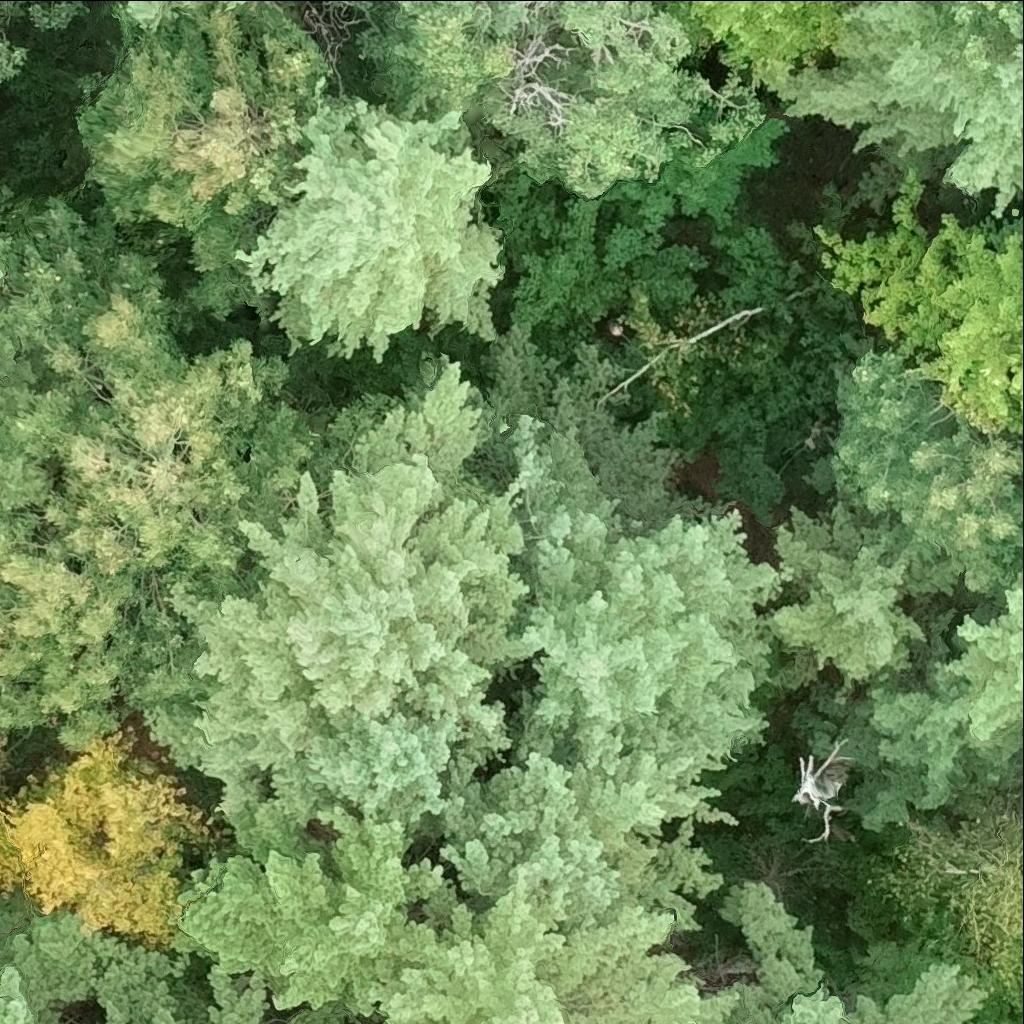crown: (139, 361, 544, 862), (0, 207, 326, 612), (508, 378, 779, 767), (80, 0, 341, 322), (382, 0, 751, 194), (241, 104, 505, 363), (816, 163, 1023, 452), (810, 343, 1023, 606), (172, 813, 445, 1014), (380, 879, 741, 1023), (782, 0, 1023, 212), (442, 754, 726, 932), (0, 729, 240, 938), (0, 557, 191, 762), (865, 571, 1023, 810), (763, 501, 959, 687), (720, 885, 983, 1023), (873, 807, 1023, 1000), (695, 0, 858, 96), (795, 740, 870, 839), (333, 0, 499, 36), (125, 0, 243, 31), (0, 966, 60, 1023), (209, 964, 263, 1023), (888, 0, 1002, 16), (0, 0, 21, 79), (298, 1002, 343, 1023), (0, 896, 17, 950), (152, 1007, 173, 1023), (0, 506, 6, 522), (0, 469, 4, 482), (254, 0, 273, 1)
